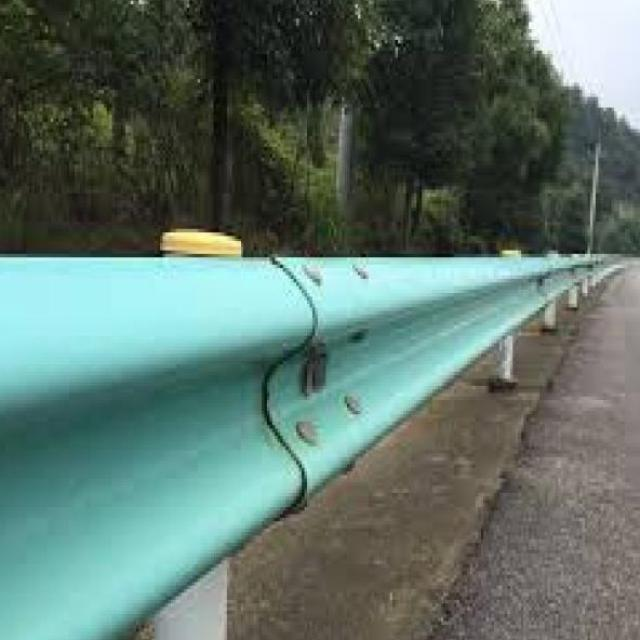Guard rail: (0, 255, 620, 640)
